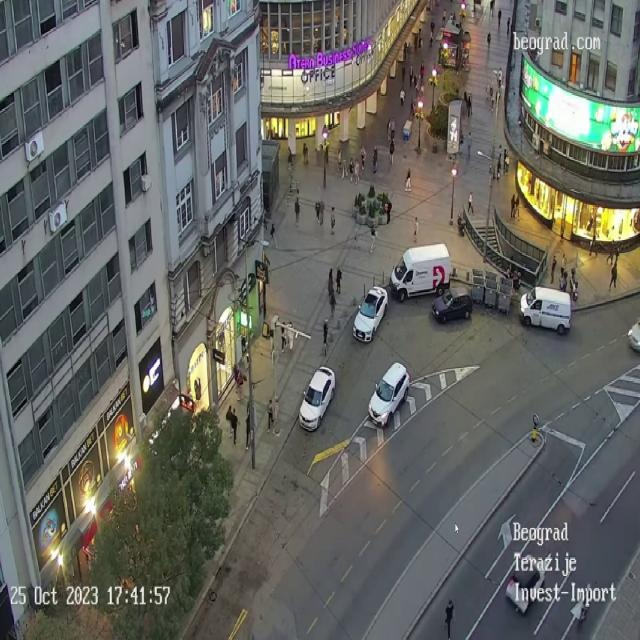car: (394, 245, 448, 298), (368, 361, 410, 428), (298, 365, 336, 432), (517, 287, 572, 333), (506, 554, 546, 615), (352, 286, 388, 343), (431, 288, 473, 324), (627, 318, 640, 352)
